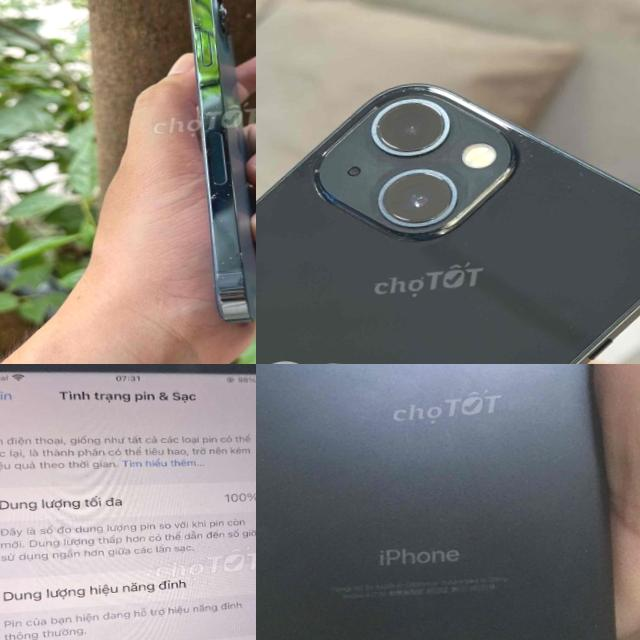gen_12_13: (256, 53, 640, 364), (144, 0, 256, 331)
gen_7_8: (256, 364, 640, 640), (0, 364, 256, 640)
scratch: (185, 174, 254, 288)
